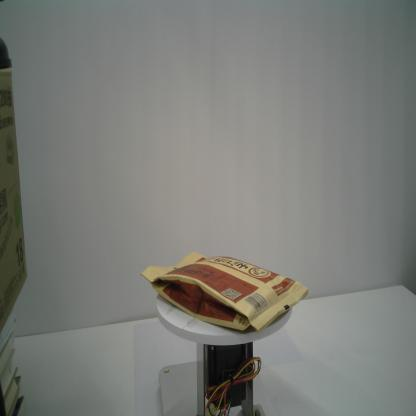Dried Food: (140, 246, 312, 336)
